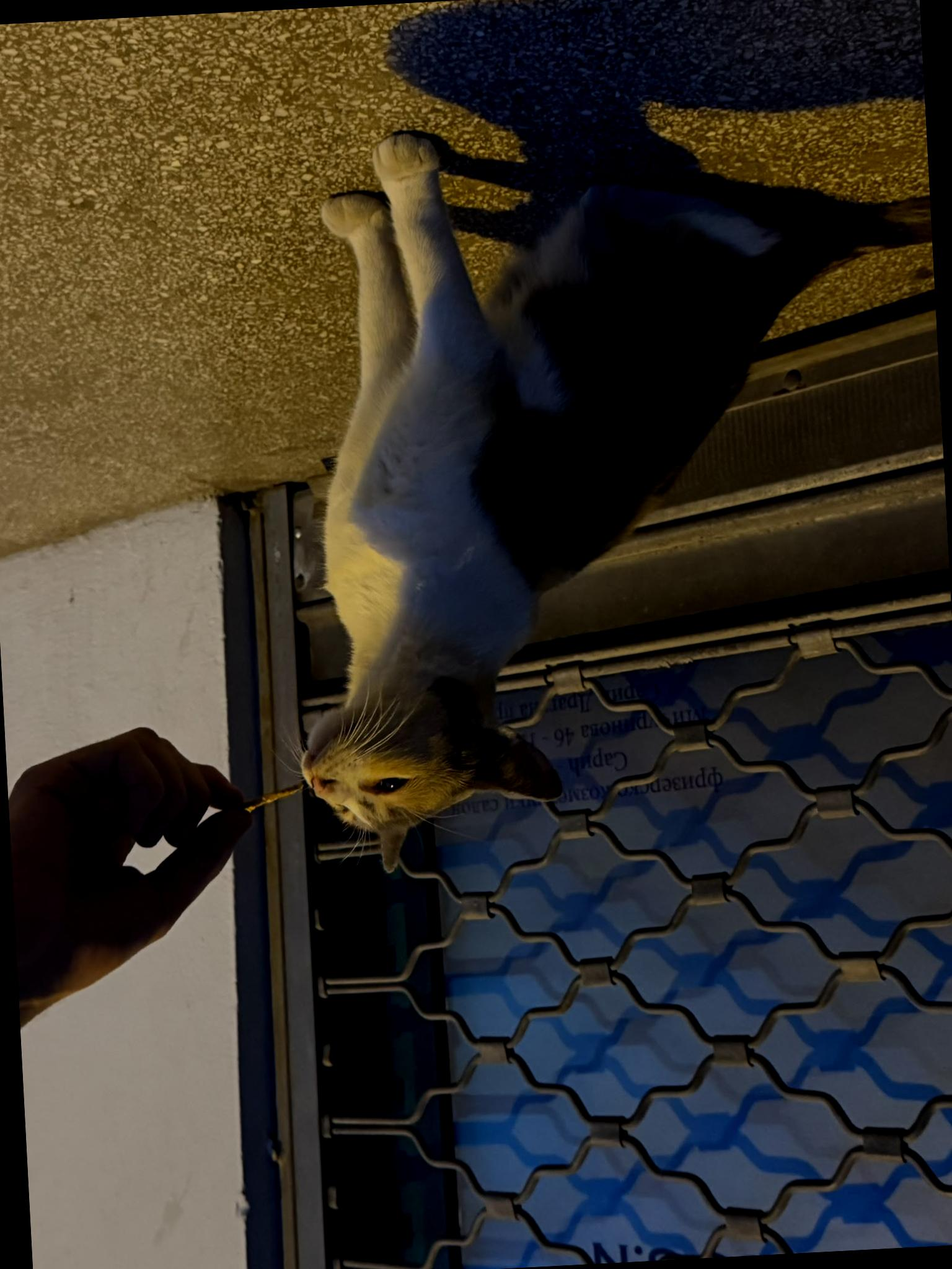macka: (263, 133, 952, 877)
